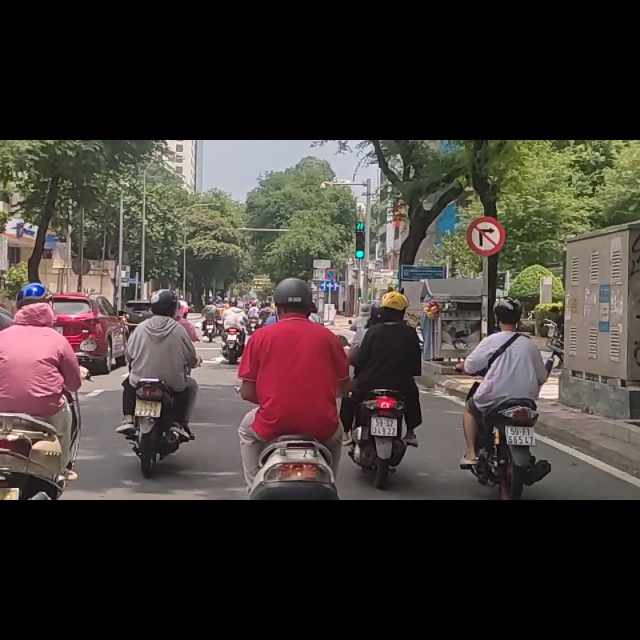bien_chi_dan: (467, 137, 504, 204), (325, 226, 337, 250)
